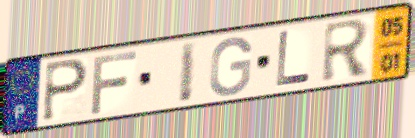F: (89, 48, 139, 116)
G: (207, 35, 254, 99)
I: (177, 38, 200, 106)
L: (274, 29, 313, 89)
P: (40, 57, 90, 124)
R: (320, 17, 372, 85)
